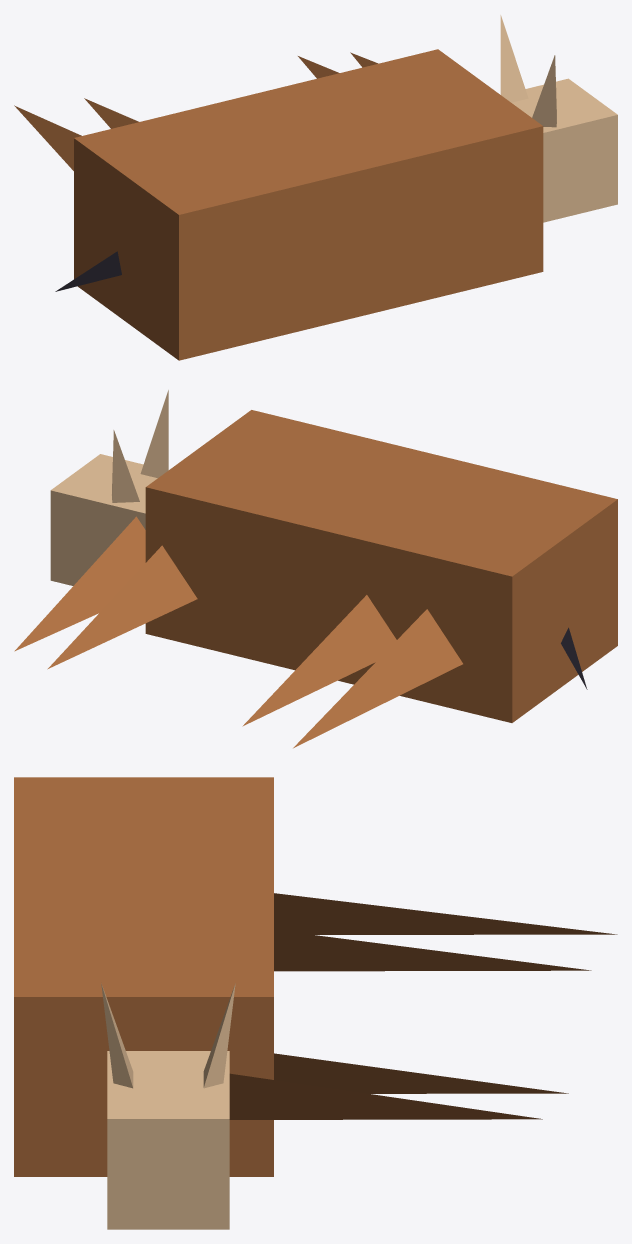
The picture shows the model from 3 angles, top to bottom: view 1: azimuth 30°, elevation 25°; view 2: azimuth 150°, elevation 25°; view 3: azimuth 270°, elevation 25°; orthographic projection. The views are drawn at different scales.
Parts seen in each view (by area): view 1: body; view 2: body; view 3: body.
Part boxes in pixels (x1,y1,x2,y2): body: (14, 15, 617, 360); body: (14, 390, 617, 748); body: (14, 777, 617, 1229).
Bounding box in the file's own units: 2.44 × 0.805 × 1.97.
